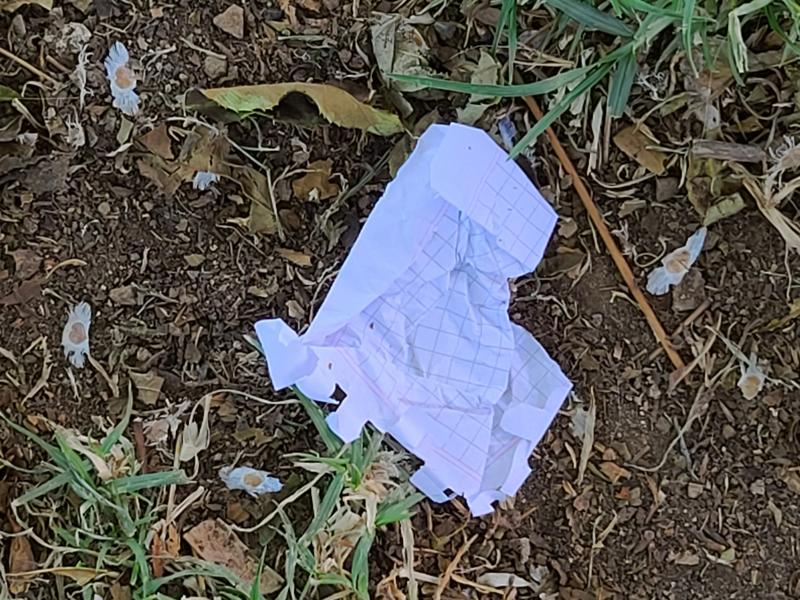papel: (252, 123, 573, 519)
